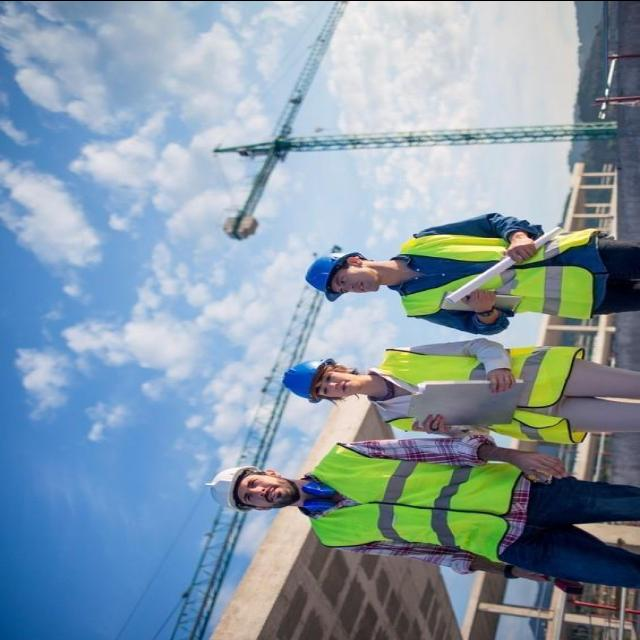helmet: (196, 448, 252, 523), (298, 240, 354, 306), (282, 350, 334, 412)
jacket: (312, 436, 516, 570), (376, 337, 587, 438), (394, 220, 605, 320)
